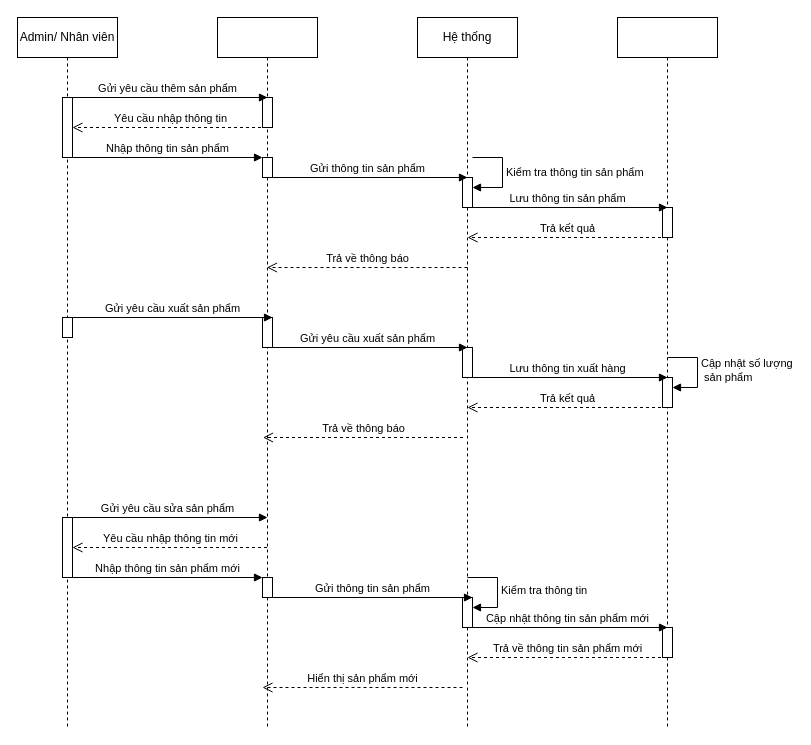
The diagram is 811 pixels wide and 745 high, and some of its shapes have lost their labels. The centre of each missing label's shape, as x and y in pixels:
"Form" goes at point 267,372.
"Kho hàng" goes at point 667,372.
